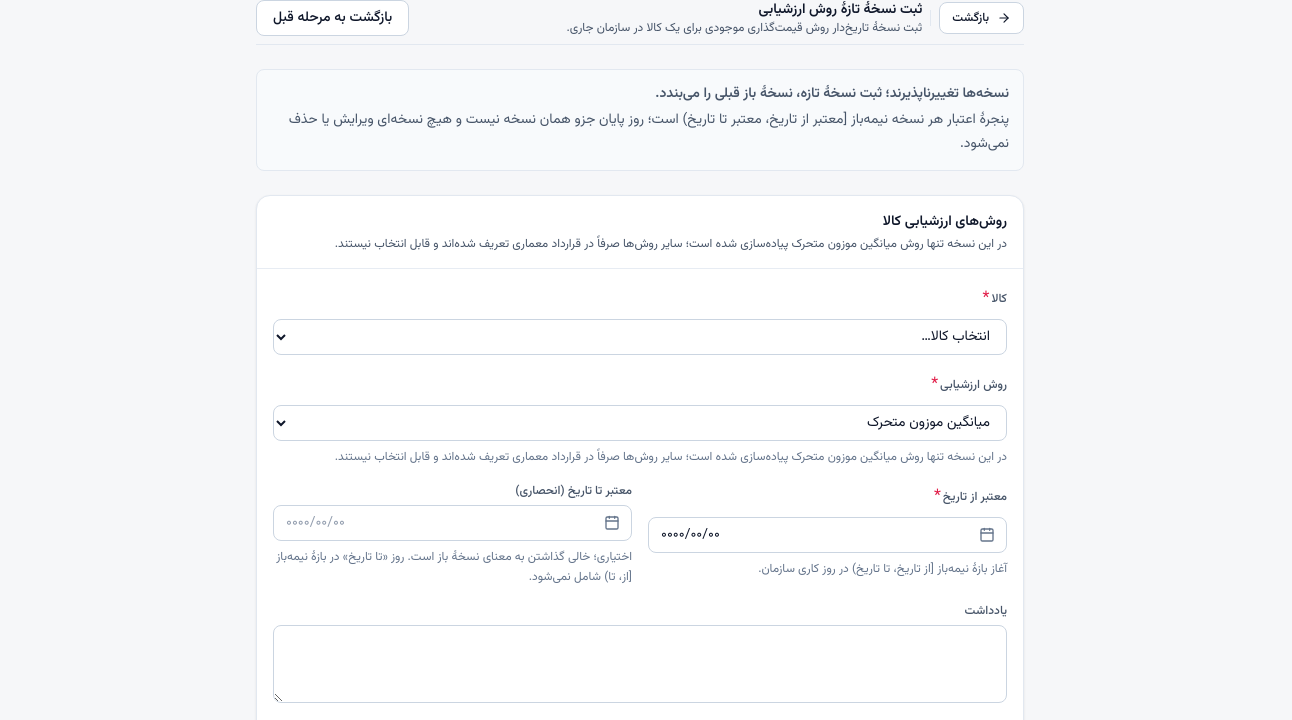
Test: ValuationMethodFormPage — UI options, submission, invalidation, errors & dirty guard › submits an open-ended version, invalidates both valuation-methods and valuation-states prefixes, and navigates back
Select "KAL-01 — ورق فولادی" in the dropdown labelled "کالا": x=640, y=337 [273, 319, 1007, 355]
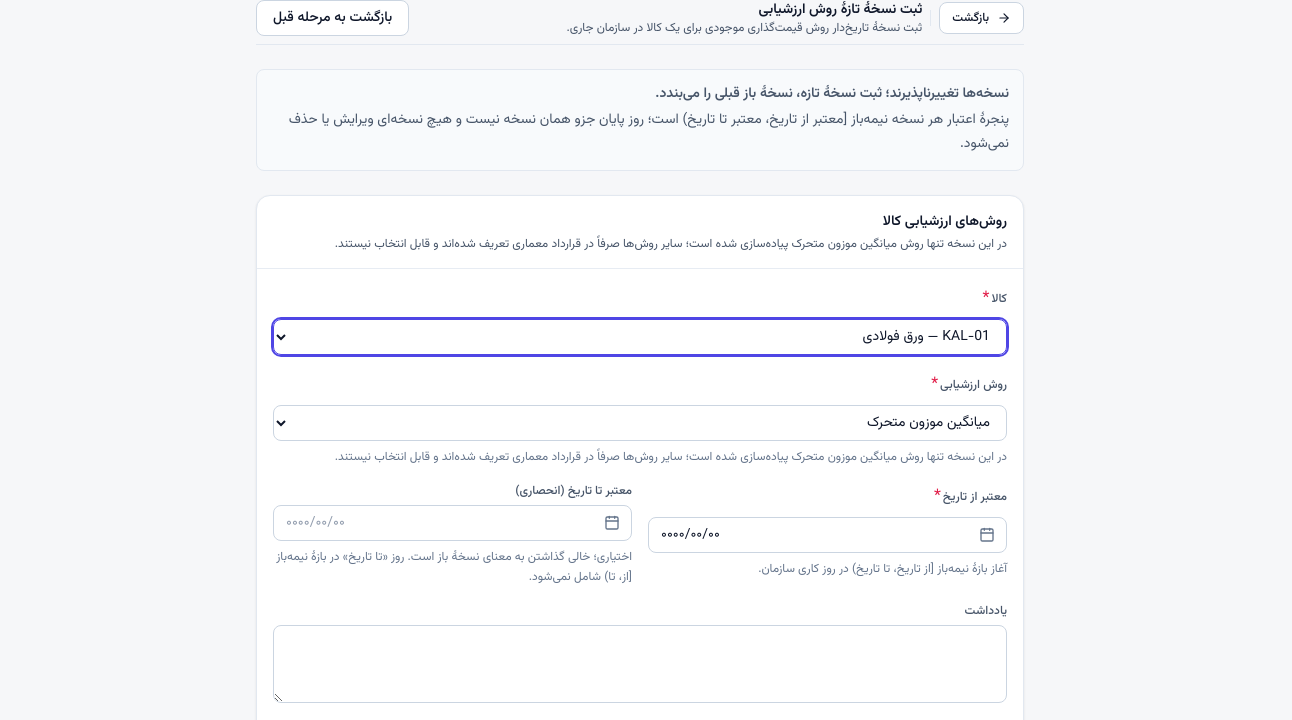
In the text box labelled "یادداشت": x=640, y=664 [273, 625, 1007, 703], type "  ثبت اولیه  "
(page scrolled)
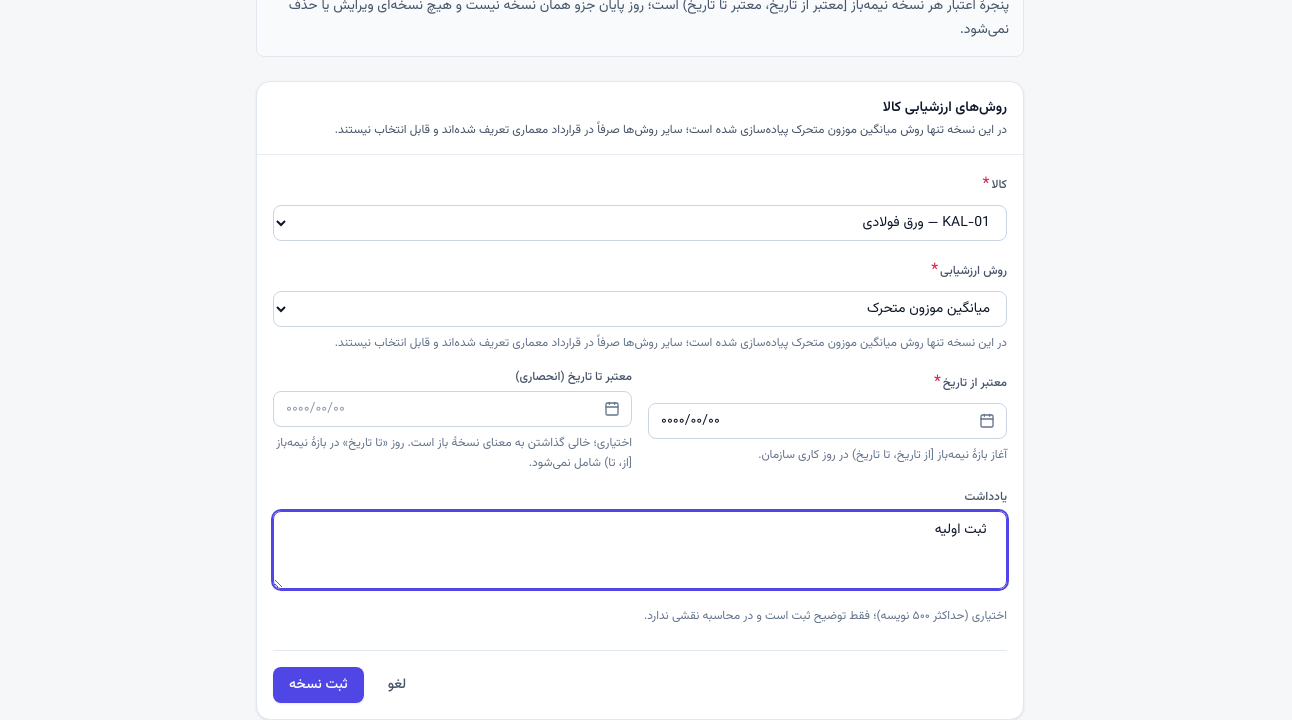
Click the button "ثبت نسخه": x=318, y=685 [273, 667, 364, 703]
(page scrolled)
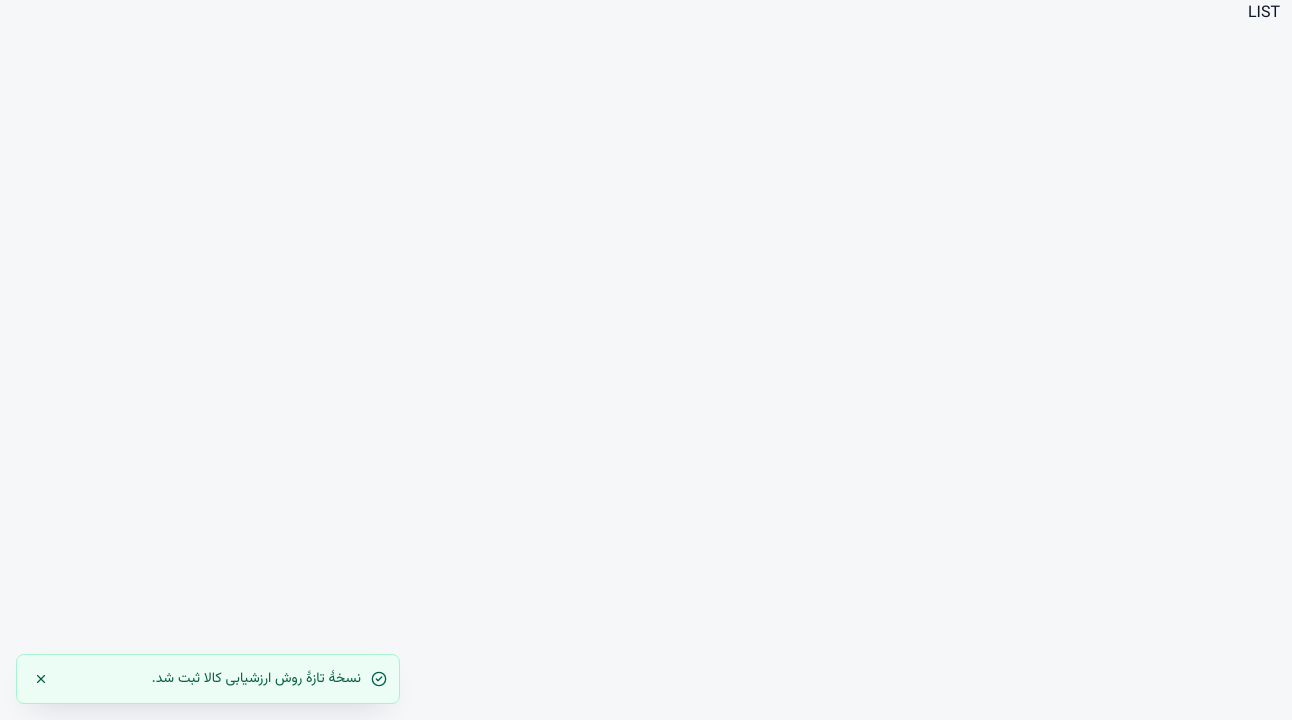
Check: the text "LIST" is shown, box [1248, 1, 1280, 26]
